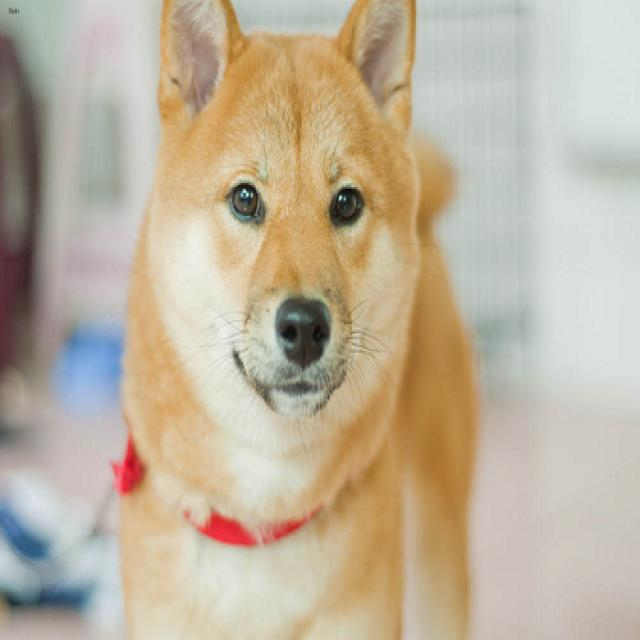dog-shiba_inu: (115, 2, 484, 636)
